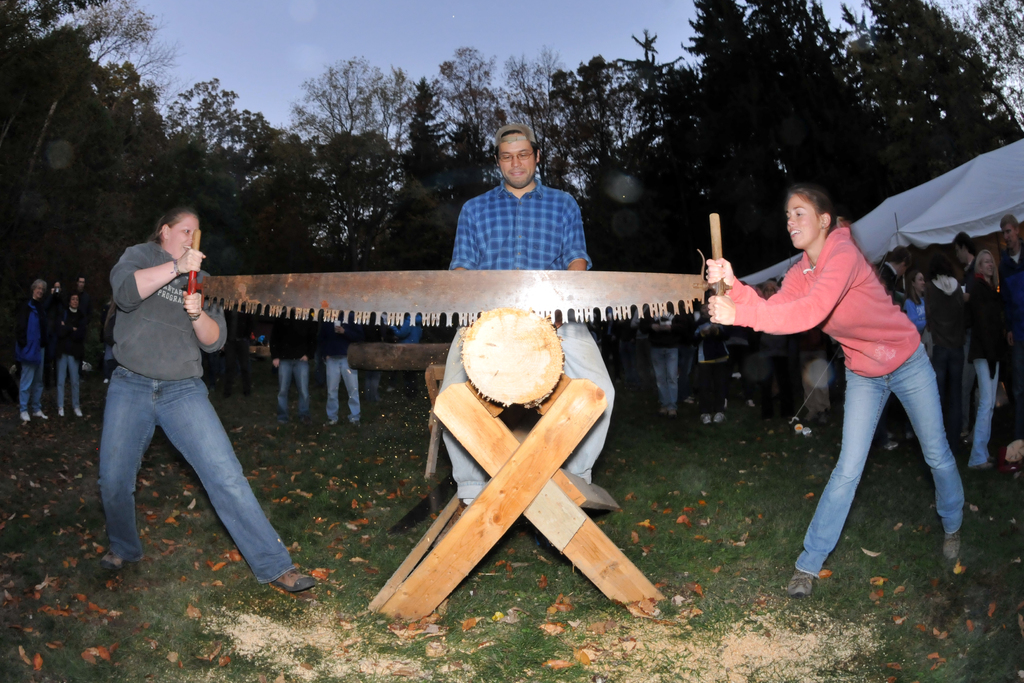Footwear: (92, 548, 135, 578), (275, 571, 317, 592), (785, 570, 815, 596), (938, 554, 965, 578), (664, 400, 679, 419), (649, 400, 664, 414), (38, 404, 48, 423), (699, 409, 712, 422), (56, 407, 68, 419), (716, 404, 723, 423), (19, 409, 30, 420), (77, 404, 85, 419)
